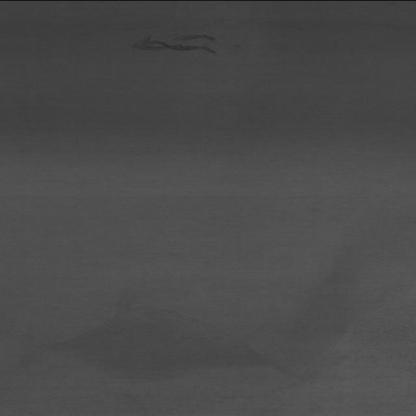water_spot: (118, 26, 233, 58)
